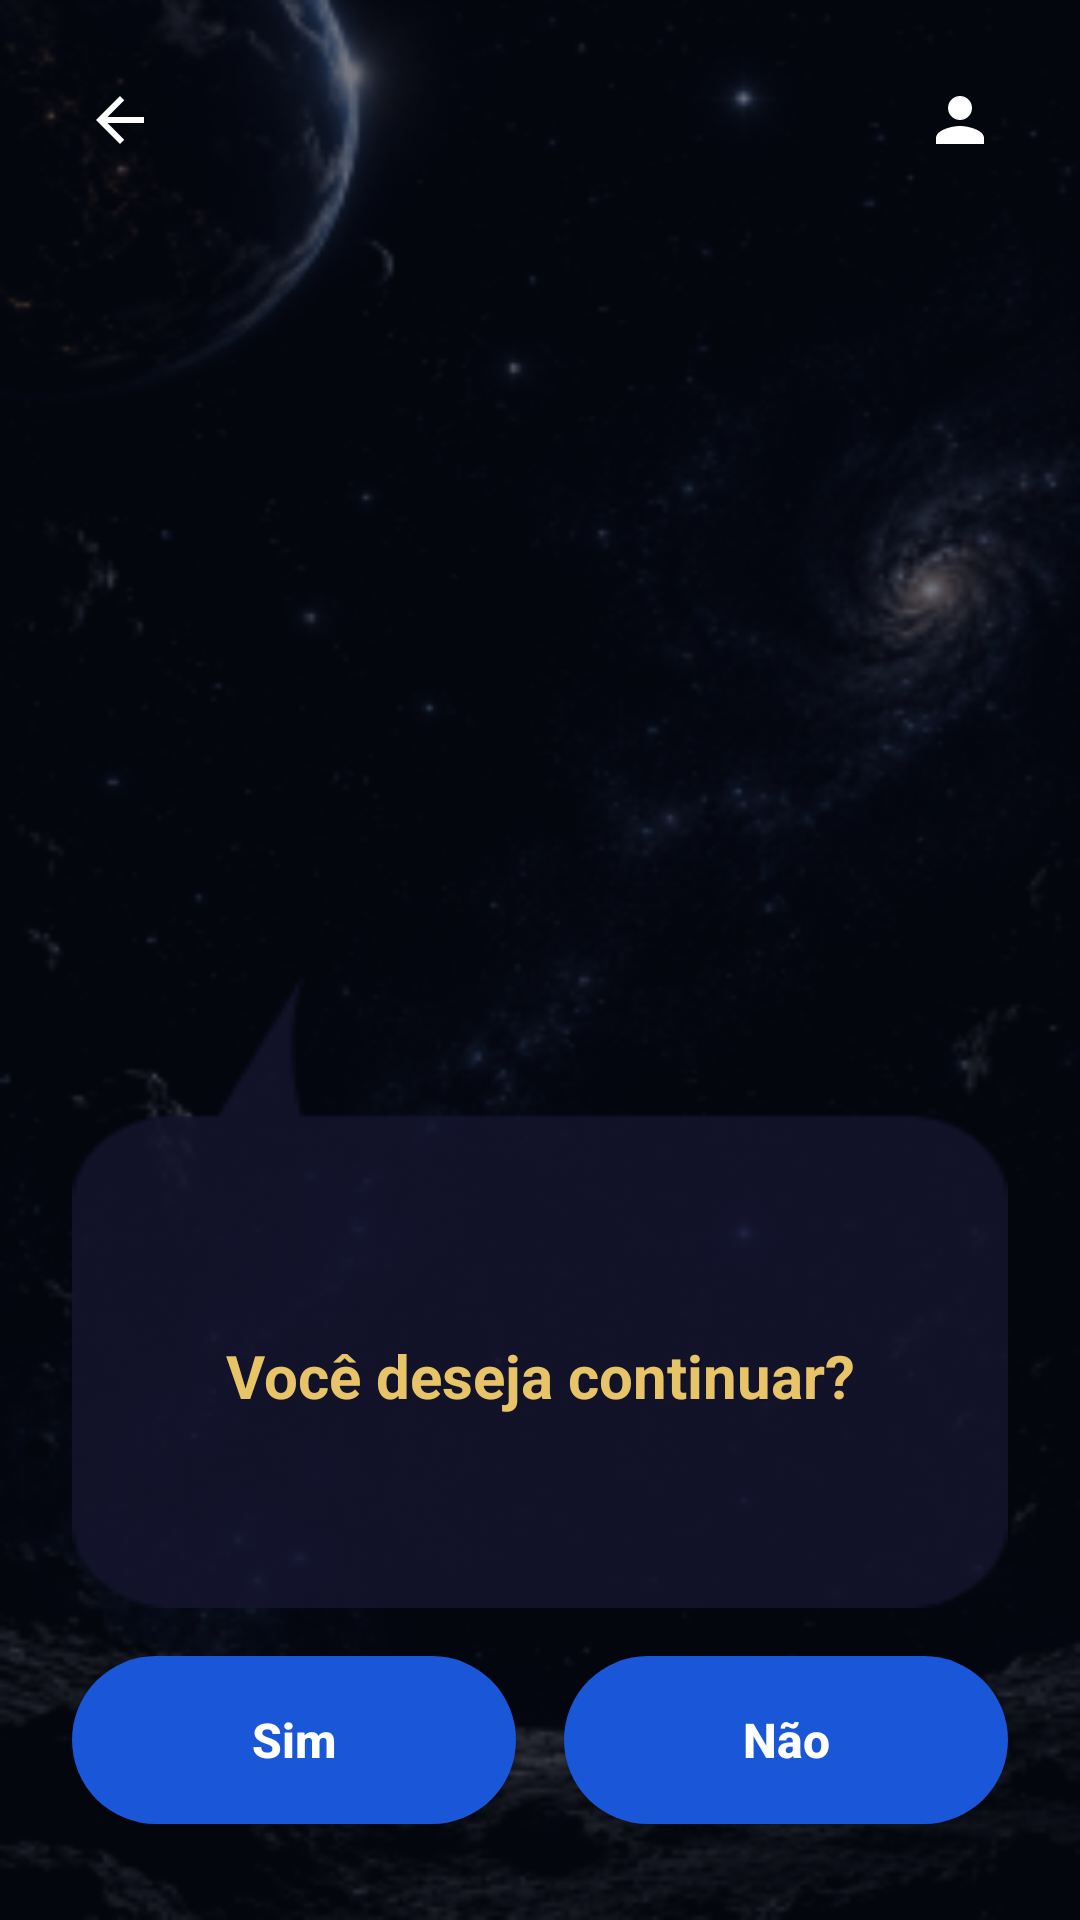

Icon click points for this 1080x1920 phone screenshot, format point (x, y):
Perfil: point (947, 137)
Voltar: point (120, 127)
